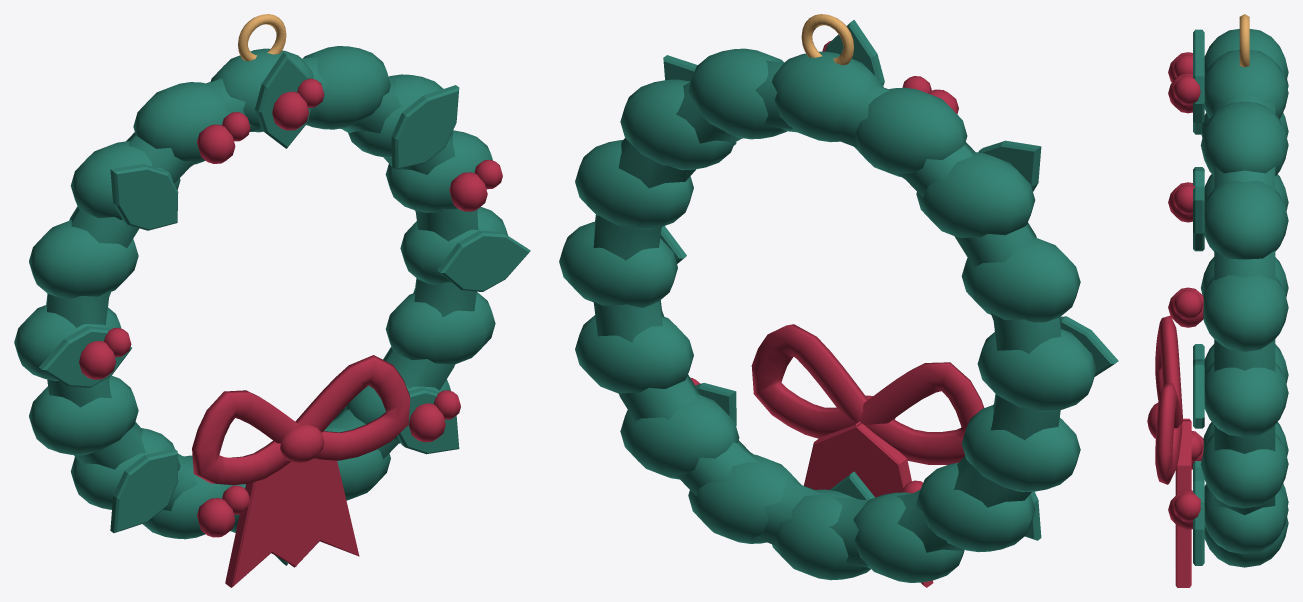
The model's file is storybook-christmas-market-holly-ribbon-wreath-f725cb23__19707.glb.
3 renders of one model, left to right at view 1: azimuth 30°, elevation 25°; view 2: azimuth 150°, elevation 25°; view 3: azimuth 270°, elevation 25°, orthographic. The views are drawn at different scales.
Visible parts, largest first — view 1: holly-ribbon-wreath; view 2: holly-ribbon-wreath; view 3: holly-ribbon-wreath.
Boxes of the visible parts, left/top/right/bottom form: holly-ribbon-wreath: left=14, top=14, right=530, bottom=587; holly-ribbon-wreath: left=559, top=14, right=1118, bottom=587; holly-ribbon-wreath: left=1147, top=14, right=1288, bottom=587.
Size of the model in its own units: 1.21 by 1.27 by 0.3006.
